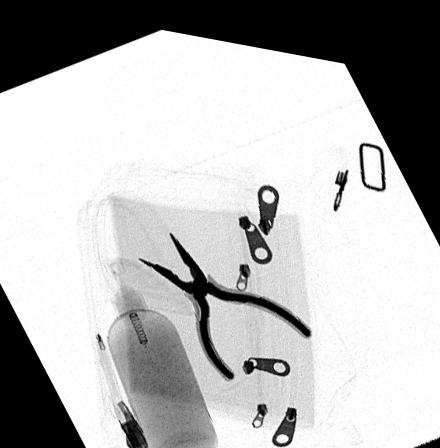Pliers: (137, 224, 313, 375)
